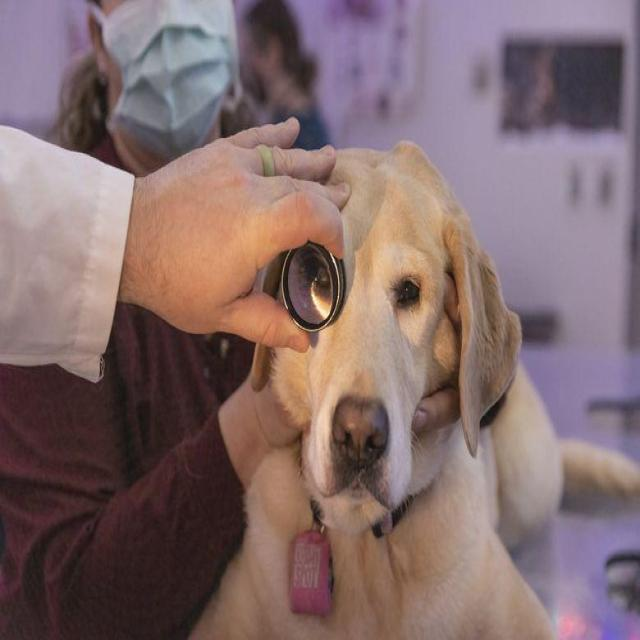Dog: (250, 116, 523, 538)
